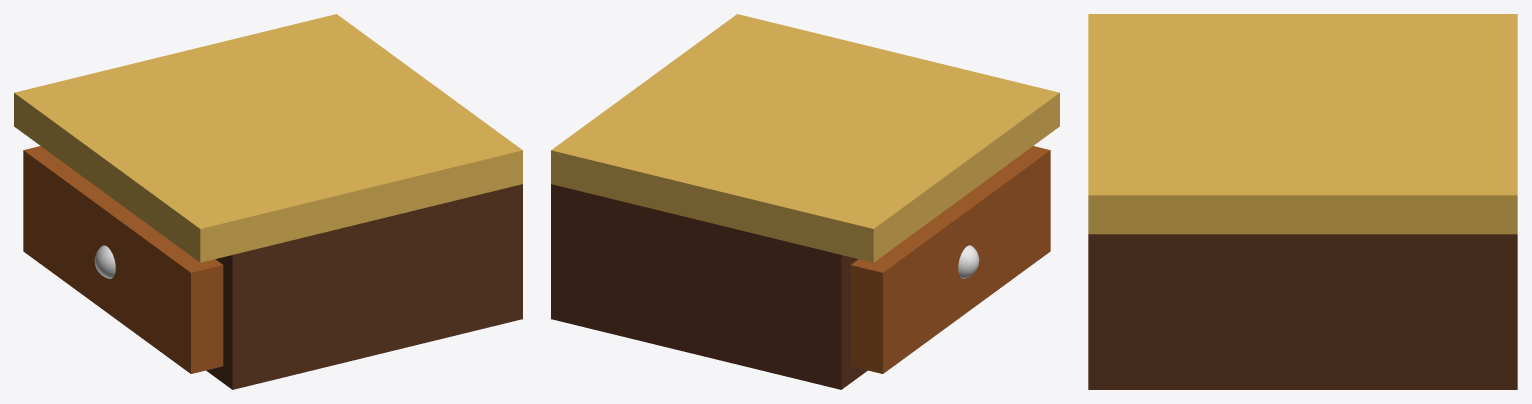
The model's file is Worktop.fbx.
3 renders of one model, left to right at view 1: azimuth 30°, elevation 25°; view 2: azimuth 150°, elevation 25°; view 3: azimuth 270°, elevation 25°, orthographic. The views are drawn at different scales.
Visible parts, largest first — view 1: Sphere; view 2: Sphere; view 3: Sphere.
Boxes of the visible parts, x1,y1,x2,y2 form: Sphere: (14, 14, 522, 389); Sphere: (551, 14, 1059, 389); Sphere: (1088, 14, 1517, 389).
Size of the model in its own units: 206 by 100 by 200.
